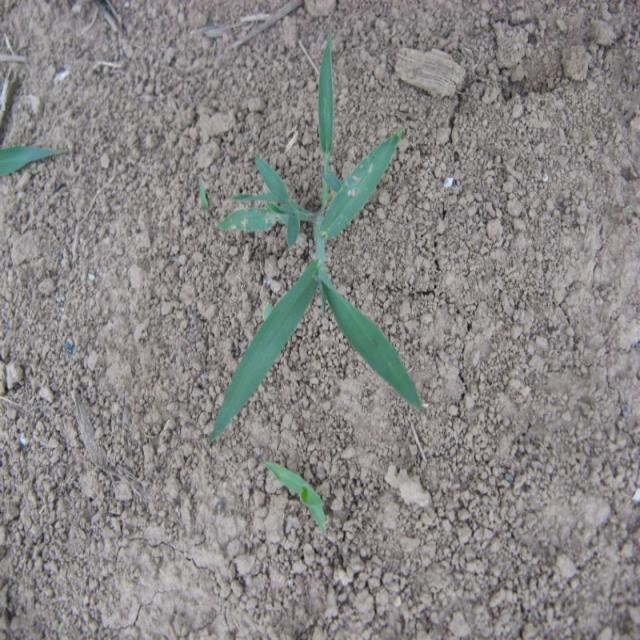bg: (206, 32, 426, 441)
